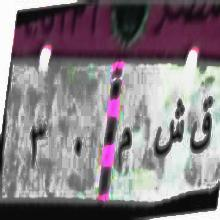0: (71, 131, 85, 168)
3: (30, 121, 47, 172)
meem: (113, 126, 134, 171)
qaaf: (189, 95, 214, 160)
sheen: (154, 98, 184, 163)
